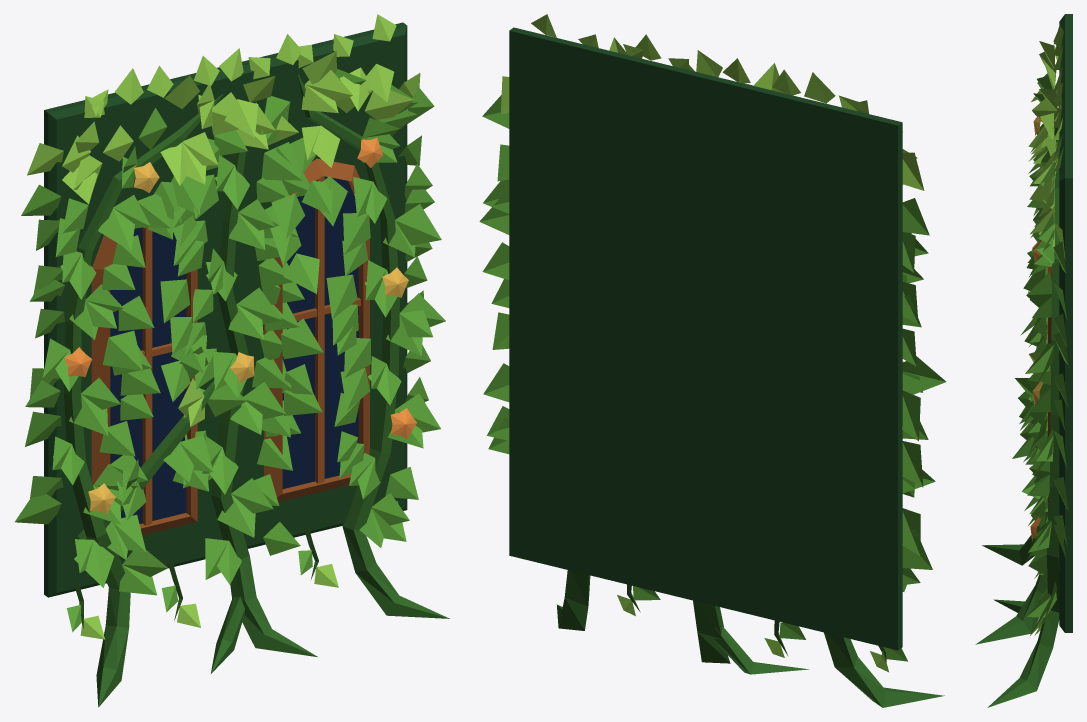
Rendered from wall-vine-curtain-c45b4e.glb.
3 views of the same model, side by side, from view 1: azimuth 30°, elevation 25°; view 2: azimuth 150°, elevation 25°; view 3: azimuth 270°, elevation 25° (orthographic). The views are drawn at different scales.
Visible parts, largest first — view 1: foliage, curtain; view 2: curtain, foliage; view 3: foliage, curtain.
Boxes of the visible parts, left/top/right/bottom form: foliage: left=15, top=14, right=445, bottom=639; curtain: left=44, top=22, right=449, bottom=707; curtain: left=509, top=27, right=944, bottom=707; foliage: left=479, top=14, right=946, bottom=672; foliage: left=1012, top=22, right=1068, bottom=635; curtain: left=975, top=14, right=1072, bottom=707.
Bounding box in the file's own units: 2.34 × 3.14 × 0.5023.
